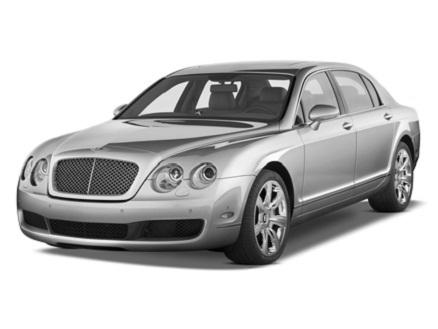car: (13, 61, 426, 271)
